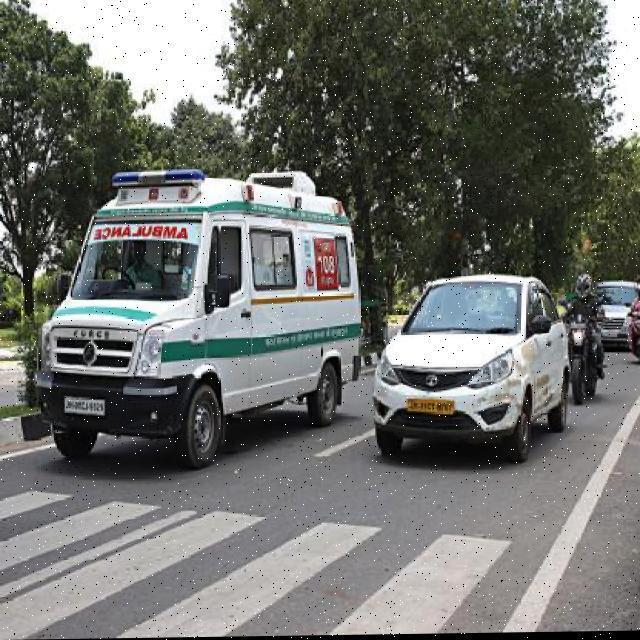Ambulance: (0, 331, 638, 638), (31, 164, 363, 474), (368, 272, 574, 468), (590, 279, 638, 355), (116, 238, 166, 296)
